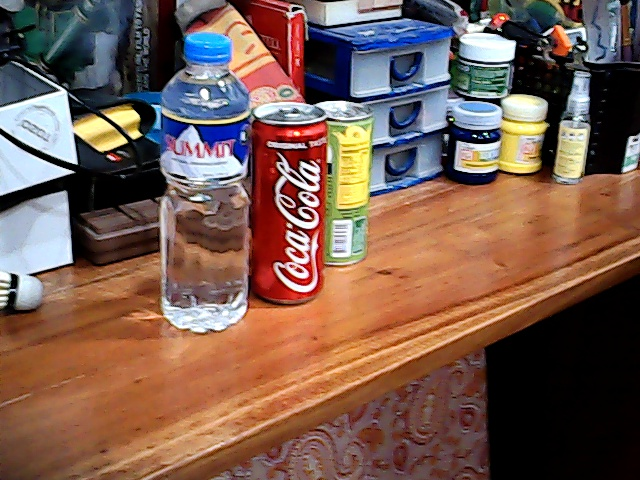Cola: (248, 95, 329, 312)
Pine Juice: (320, 104, 380, 275)
Summit Water: (155, 27, 253, 341)
